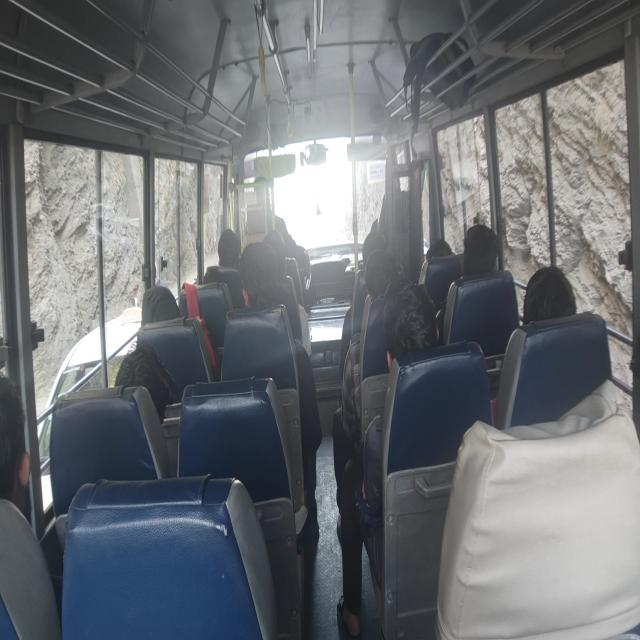person: (1, 368, 38, 520), (385, 288, 442, 364), (242, 233, 286, 329), (117, 338, 176, 409), (521, 262, 582, 321), (462, 221, 507, 284), (366, 248, 406, 302), (142, 280, 185, 325), (374, 189, 414, 235), (264, 227, 294, 275), (214, 230, 244, 267), (198, 252, 228, 289), (428, 236, 460, 265), (252, 171, 275, 210), (362, 236, 391, 259)
